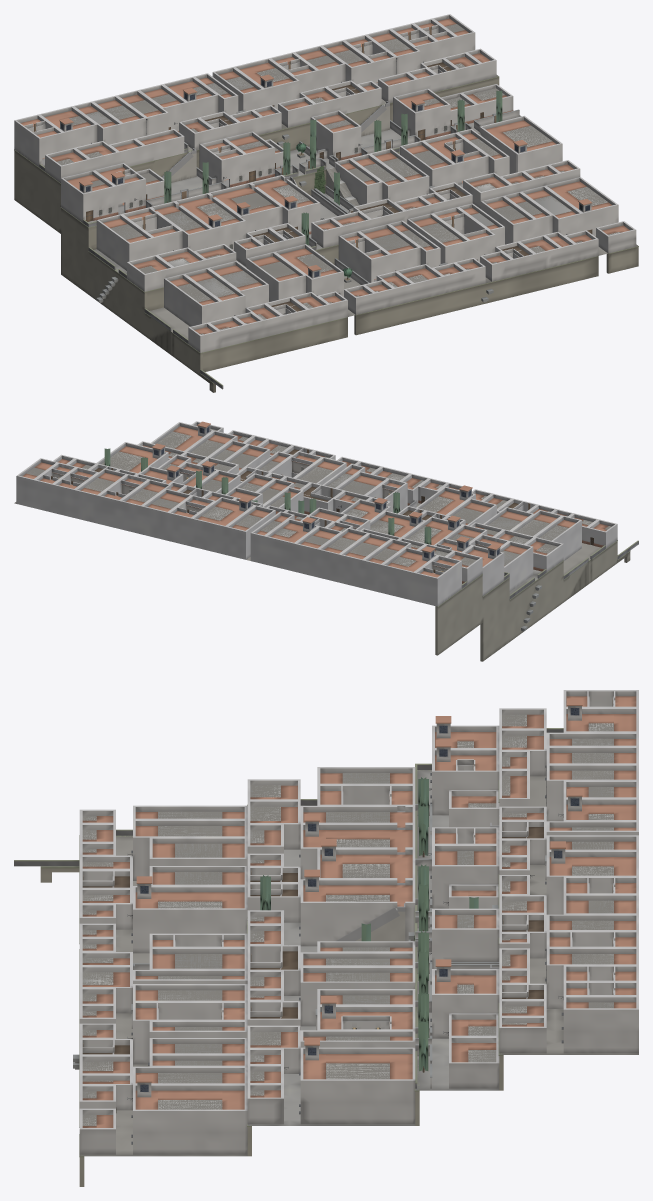
The model's file is judiaria_hi.glb.
The picture shows the model from 3 angles, top to bottom: view 1: azimuth 30°, elevation 25°; view 2: azimuth 150°, elevation 25°; view 3: azimuth 270°, elevation 25°; orthographic projection. The views are drawn at different scales.
Parts seen in each view (by area): view 1: judiaria_retaining_11, judiaria_retaining_10, judiaria_6_n_174, judiaria_west_12, judiaria_west_14, judiaria_7_n_191, judiaria_7_n_198, judiaria_6_n_162, judiaria_5_n_128, judiaria_5_n_142, judiaria_6_n_166, judiaria_6_n_165 (+100 smaller); view 2: judiaria_west_14, judiaria_west_12, judiaria_8_n_210, judiaria_8_n_201, judiaria_west_13, judiaria_8_n_202, judiaria_8_n_207, judiaria_8_n_212, judiaria_8_n_209, judiaria_8_n_215, judiaria_8_n_204, judiaria_6_n_174 (+48 smaller); view 3: judiaria_6_n_174, judiaria_5_n_142, judiaria_6_n_167, judiaria_5_n_132, judiaria_8_n_218, judiaria_7_n_197, judiaria_7_n_198, judiaria_6_n_165, judiaria_7_n_192, judiaria_8_n_210, judiaria_6_n_170, judiaria_6_n_166 (+84 smaller).
Part boxes in pixels (bbox=[...]): judiaria_retaining_11: bbox=[354, 256, 598, 335]; judiaria_retaining_10: bbox=[200, 317, 347, 371]; judiaria_6_n_174: bbox=[479, 116, 562, 173]; judiaria_west_12: bbox=[88, 251, 147, 335]; judiaria_west_14: bbox=[14, 149, 60, 233]; judiaria_7_n_191: bbox=[61, 170, 115, 222]; judiaria_7_n_198: bbox=[393, 88, 450, 140]; judiaria_6_n_162: bbox=[96, 214, 153, 270]; judiaria_5_n_128: bbox=[164, 274, 221, 326]; judiaria_5_n_142: bbox=[545, 177, 618, 236]; judiaria_6_n_166: bbox=[208, 183, 282, 232]; judiaria_6_n_165: bbox=[174, 193, 246, 250]; judiaria_west_14: bbox=[435, 574, 482, 655]; judiaria_west_12: bbox=[509, 560, 563, 641]; judiaria_8_n_210: bbox=[191, 496, 255, 554]; judiaria_8_n_201: bbox=[414, 555, 461, 606]; judiaria_west_13: bbox=[480, 577, 509, 661]; judiaria_8_n_202: bbox=[381, 546, 438, 600]; judiaria_8_n_207: bbox=[265, 517, 318, 571]; judiaria_8_n_212: bbox=[141, 488, 191, 540]; judiaria_8_n_209: bbox=[226, 505, 275, 559]; judiaria_8_n_215: bbox=[74, 468, 127, 523]; judiaria_8_n_204: bbox=[339, 533, 392, 588]; judiaria_6_n_174: bbox=[96, 442, 168, 473]; judiaria_6_n_174: bbox=[299, 1038, 415, 1124]; judiaria_5_n_142: bbox=[131, 1075, 247, 1154]; judiaria_6_n_167: bbox=[299, 869, 415, 946]; judiaria_5_n_132: bbox=[131, 876, 247, 953]; judiaria_8_n_218: bbox=[561, 996, 638, 1053]; judiaria_7_n_197: bbox=[430, 908, 499, 968]; judiaria_7_n_198: bbox=[430, 959, 499, 1038]; judiaria_6_n_165: bbox=[300, 814, 415, 879]; judiaria_7_n_192: bbox=[430, 739, 499, 815]; judiaria_8_n_210: bbox=[546, 841, 638, 914]; judiaria_6_n_170: bbox=[300, 966, 415, 1026]; judiaria_6_n_166: bbox=[317, 839, 415, 884].
Size of the model in its own units: 137 by 39.8 by 112.
